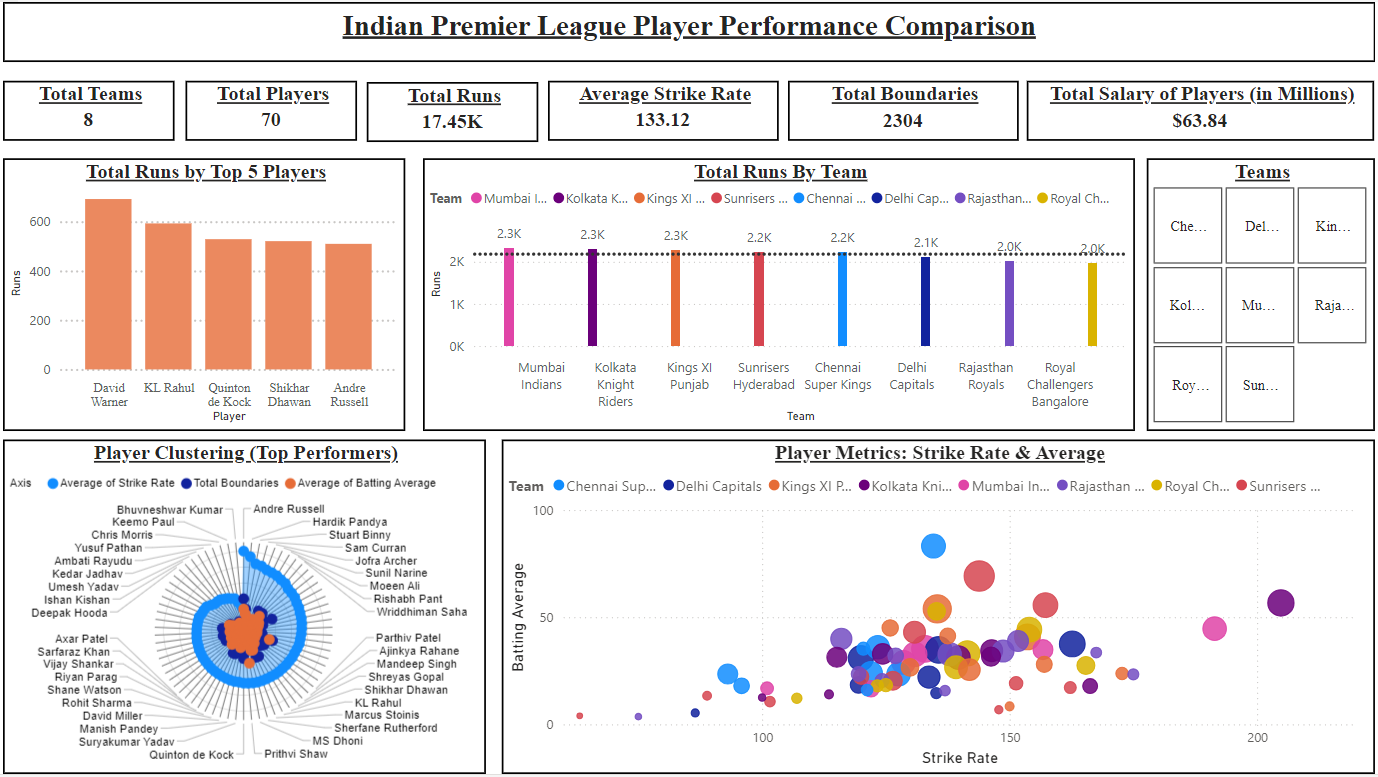

This screenshot's page, from the dashboard's own definition file:
{"tool":"powerbi","page":{"name":"Player Performance Comparison","canvas":[1280,720],"ordinal":0},"visuals":[{"type":"card","title":"Total Runs","fields":{"Values":["Sheet1.Runs"]},"box":[338.7,74.6,160.2,56.3],"z":0},{"type":"card","title":"Average Strike Rate","fields":{"Values":["Sheet1.SR"]},"box":[508.7,73.4,215.2,56.3],"z":1000},{"type":"card","title":"Total Boundaries","fields":{"Values":["Sheet1.Total Boundaries"]},"box":[732.5,73.4,215.2,56.3],"z":2000},{"type":"card","title":"Total Salary of Players (in Millions)","fields":{"Values":["Sheet1.Salary "]},"box":[955,73.4,324.1,56.3],"z":3000},{"type":"columnChart","title":"Total Runs by Top 5 Players","fields":{"Category":["Sheet1.Player"],"Y":["Sheet1.Runs"]},"box":[0,145.5,375.4,254.3],"z":4000},{"type":"clusteredColumnChart","title":"Total Runs By Team","fields":{"Category":["Sheet1.Team"],"Y":["Sheet1.Runs"],"Series":["Sheet1.Team"]},"box":[391.3,145.5,664,254.3],"z":5000},{"type":"RadarChart1446119667547","title":"Player Clustering (Top Performers)","fields":{"Category":["Sheet1.Player"],"Y":["Sheet1.SR","Sheet1.Total Boundaries","Sheet1.Avg"]},"box":[0,408.4,450,311.8],"z":6000},{"type":"advancedSlicerVisual","title":"Teams","fields":{"Values":["Sheet1.Team"]},"box":[1066.3,145.5,212.8,254.3],"z":7000},{"type":"scatterChart","title":"Player Metrics: Strike Rate & Average","fields":{"Category":["Sheet1.Player"],"X":["Sheet1.SR"],"Y":["Sheet1.Avg"],"Series":["Sheet1.Team"],"Size":["Sheet1.Runs"]},"box":[464.7,408.2,814.4,311.8],"z":8000},{"type":"textbox","box":[0,0,1280,56.3],"z":9000},{"type":"card","title":"Total Teams","fields":{"Values":["Sheet1.Team"]},"box":[0,73.4,160.2,56.3],"z":10000},{"type":"card","title":"Total Players","fields":{"Values":["Sheet1.Player"]},"box":[170,73.4,160.2,56.3],"z":11000}]}

Visuals, with their boxes in screenshot pixels (x1, y1, x2, y2), scaled from the page's 1280x720 canvas onto the 1378x777 screenshot:
"Total Runs" card: bbox(365, 81, 537, 141)
"Average Strike Rate" card: bbox(548, 79, 779, 140)
"Total Boundaries" card: bbox(789, 79, 1020, 140)
"Total Salary of Players (in Millions)" card: bbox(1028, 79, 1377, 140)
"Total Runs by Top 5 Players" columnChart: bbox(0, 157, 404, 431)
"Total Runs By Team" clusteredColumnChart: bbox(421, 157, 1136, 431)
"Player Clustering (Top Performers)" RadarChart1446119667547: bbox(0, 441, 484, 776)
"Teams" advancedSlicerVisual: bbox(1148, 157, 1377, 431)
"Player Metrics: Strike Rate & Average" scatterChart: bbox(500, 441, 1377, 776)
textbox: bbox(0, 0, 1377, 61)
"Total Teams" card: bbox(0, 79, 172, 140)
"Total Players" card: bbox(183, 79, 355, 140)
